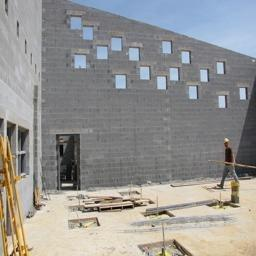hat: (221, 134, 234, 151)
no vest: (218, 143, 242, 180)
